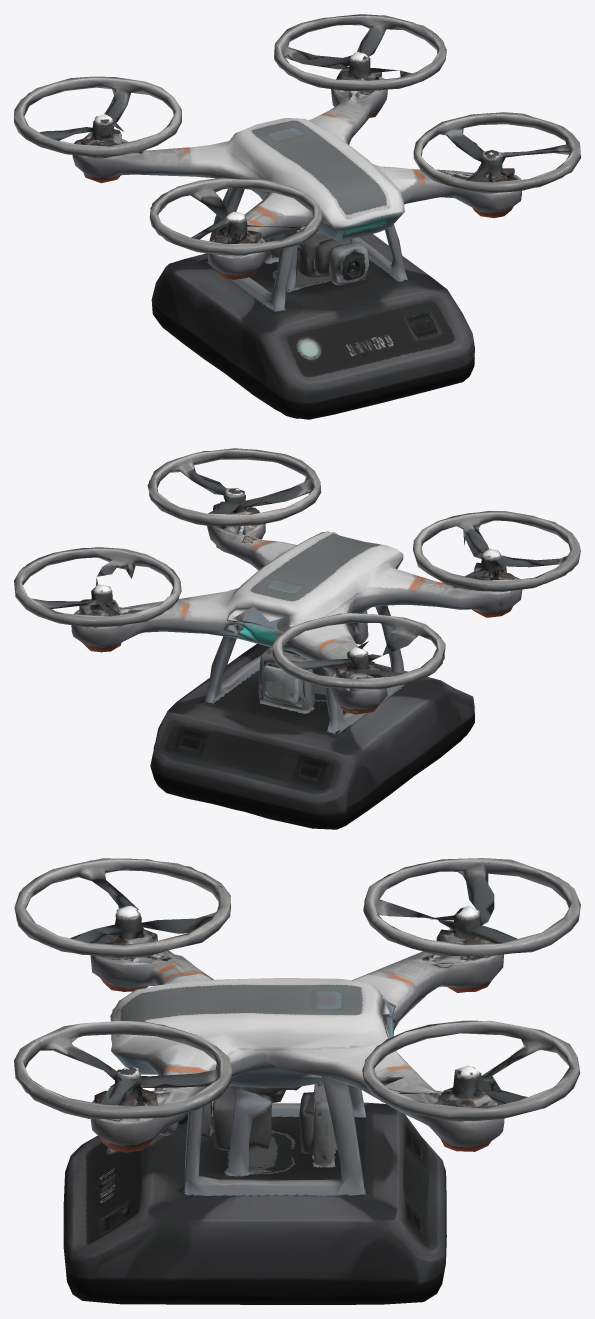
File: holodeck_Drone.glb
3 renders of one model, top to bottom at view 1: azimuth 30°, elevation 25°; view 2: azimuth 150°, elevation 25°; view 3: azimuth 270°, elevation 25°, orthographic. The views are drawn at different scales.
Visible parts, largest first — view 1: world; view 2: world; view 3: world.
Part boxes in pixels (x1=…): world: x1=14, y1=14, x2=580, y2=419; world: x1=14, y1=448, x2=580, y2=829; world: x1=14, y1=858, x2=580, y2=1304.
Size of the model in its own units: 0.9995 by 0.4833 by 0.9395.
Materials: 1 (1 with a texture image).
